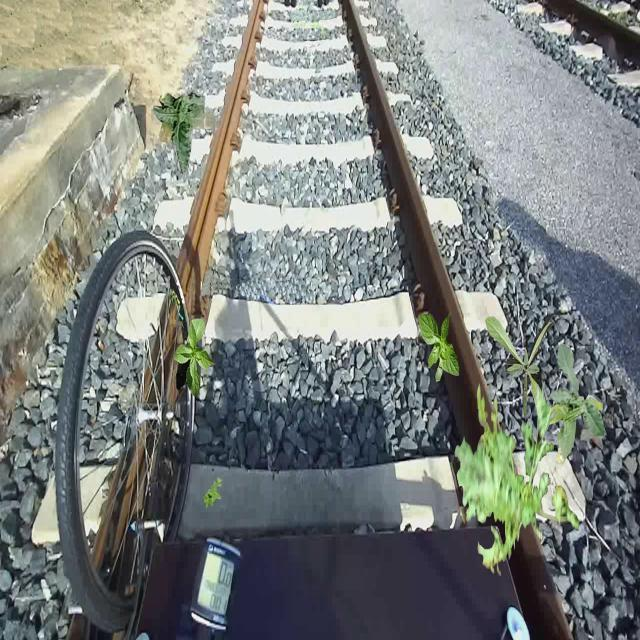Plant: (455, 381, 580, 577), (543, 342, 606, 466), (485, 314, 556, 422), (153, 92, 217, 175), (174, 318, 216, 398), (418, 311, 460, 382), (203, 477, 222, 510)
